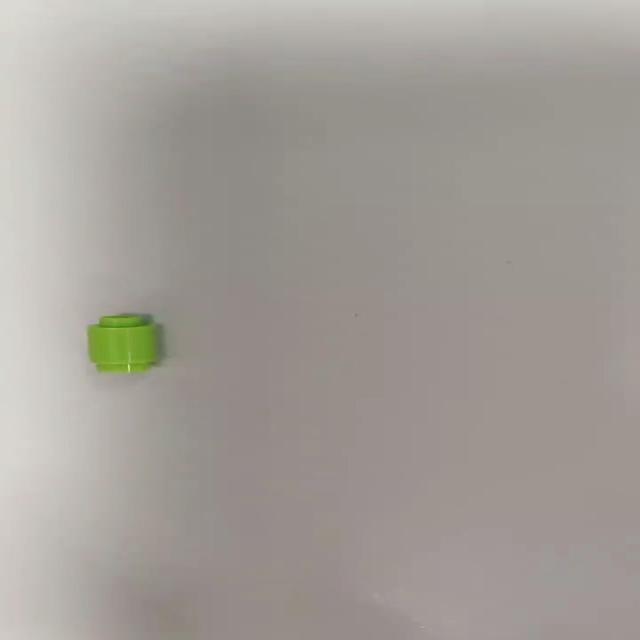S1x1x1: (81, 313, 162, 377)
